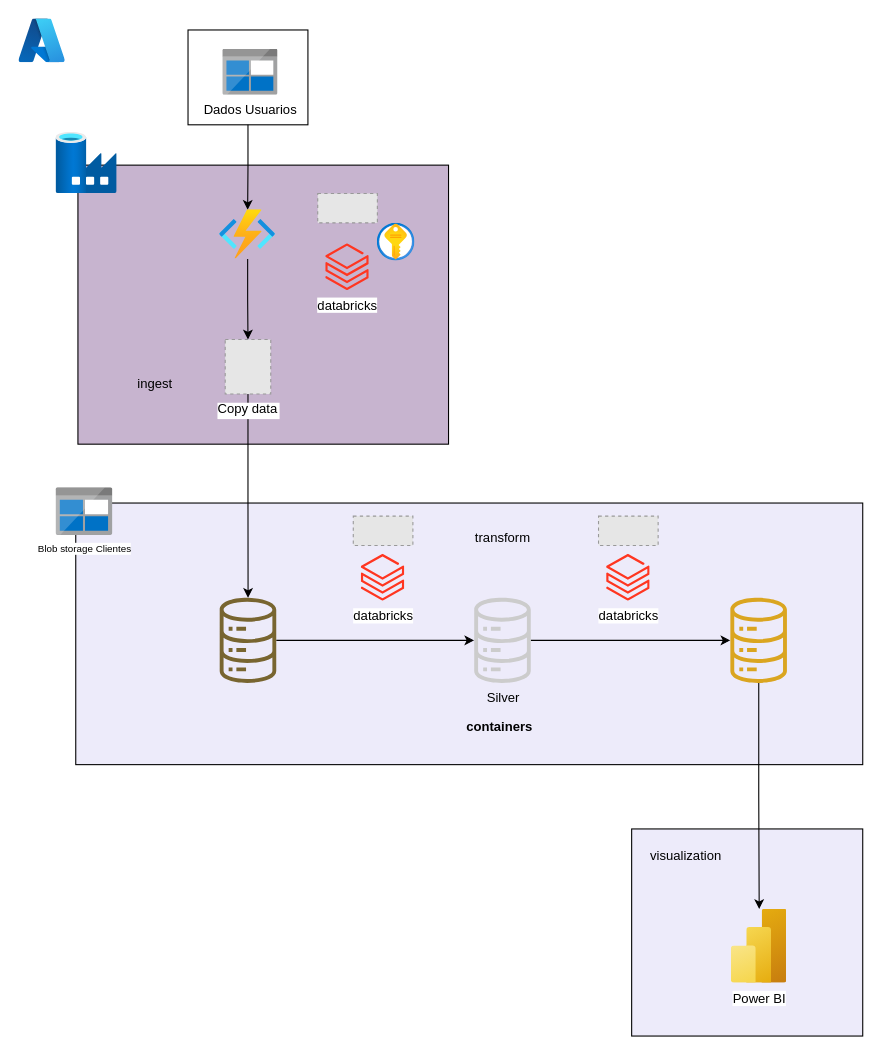
Some shapes in this 882 by 1055 pixel diagram are drawn without their labels. Grey dashed boxes stand in for pictures. The box of each missing label's shape, as (x1, y1, x2, y2) in pixels:
Azure function: (219, 209, 275, 259)
Bronze: (217, 597, 277, 683)
data factory: (56, 132, 117, 193)
Gold: (728, 597, 788, 683)
